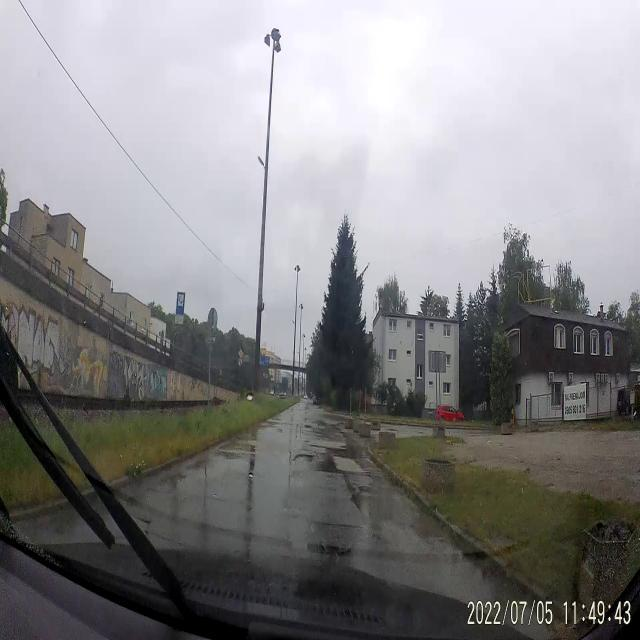Pothole: (286, 446, 316, 474), (327, 420, 345, 436), (275, 422, 285, 440), (302, 420, 314, 431), (386, 426, 399, 432)
